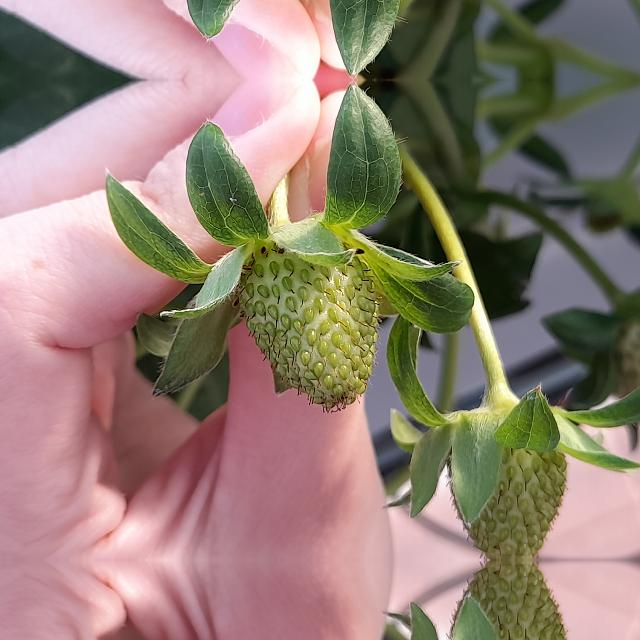Health_25: (231, 237, 383, 413), (450, 417, 564, 559), (450, 561, 564, 640)
